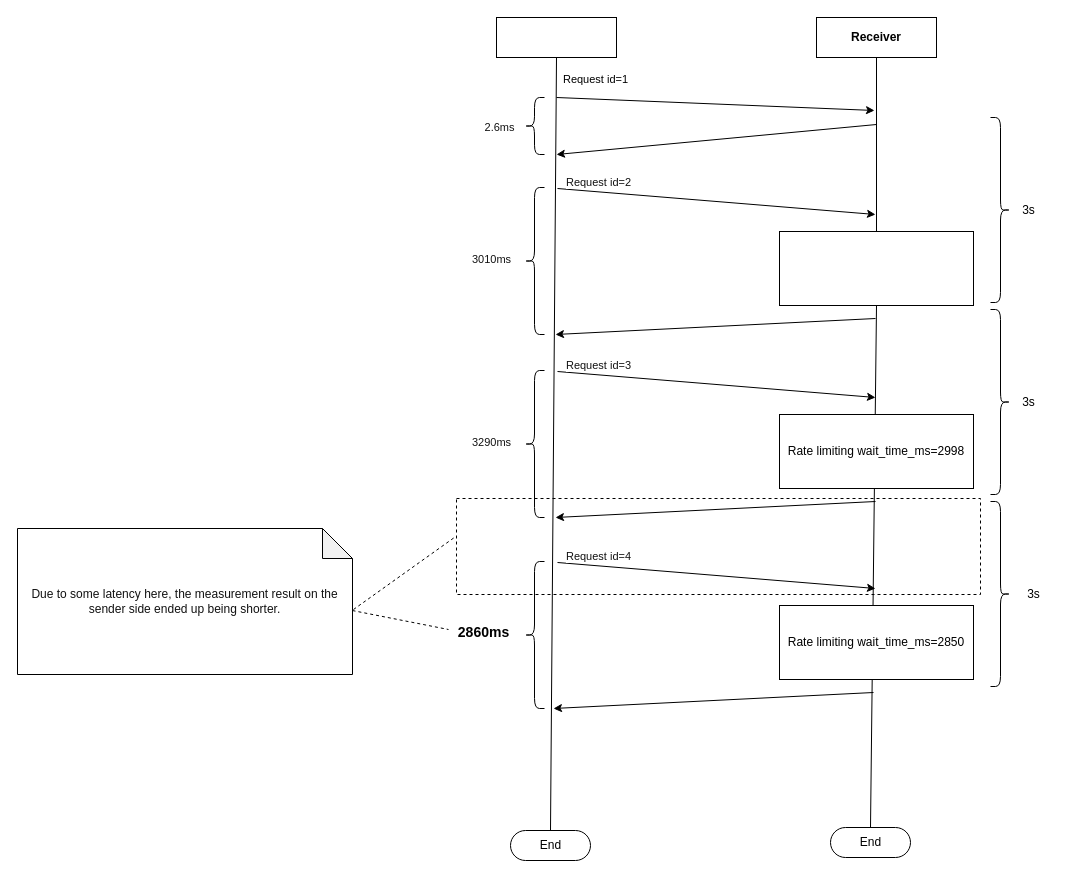
Some shapes in this 1066 by 878 pixel diagram are drawn without their labels. The box of each missing label's shape, as (x1, y1, x2, y2) in pixels:
Rate limiting wait_time_ms=2999: (778, 230, 974, 306)
Sender: (496, 16, 616, 58)
